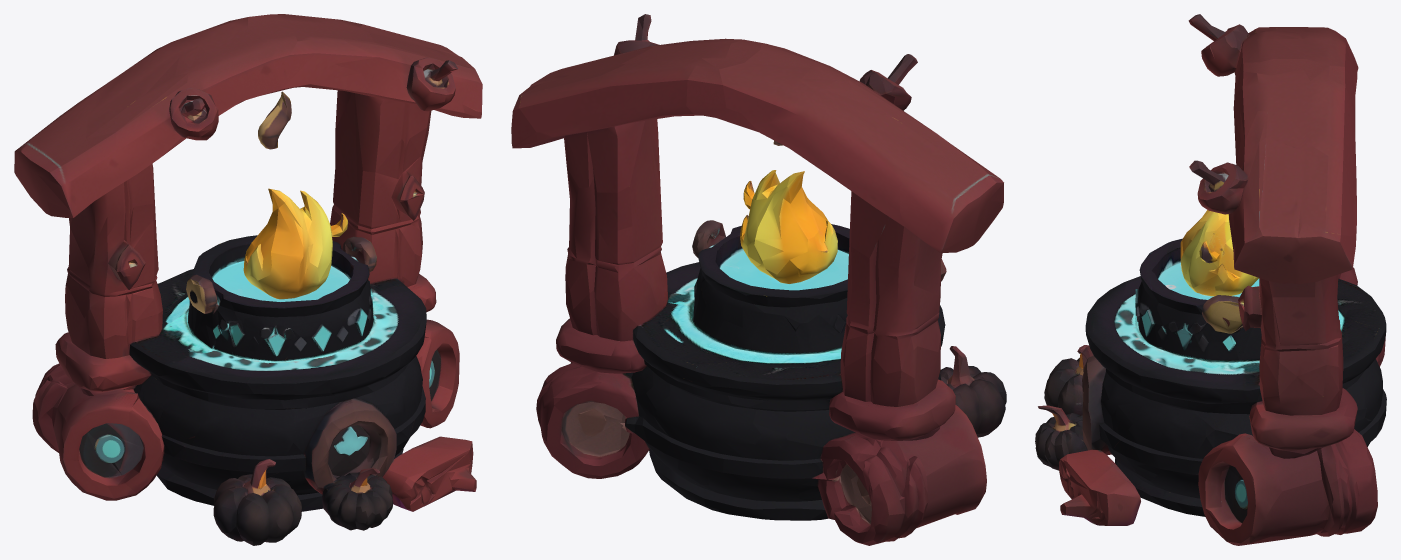
Rendered from hw-forge.glb.
The picture shows the model from 3 angles, left to right: view 1: azimuth 30°, elevation 25°; view 2: azimuth 150°, elevation 25°; view 3: azimuth 270°, elevation 25°; orthographic projection. The views are drawn at different scales.
Bounding box in the file's own units: 1.9 × 1.72 × 1.34.
1 material, 1 textured.
